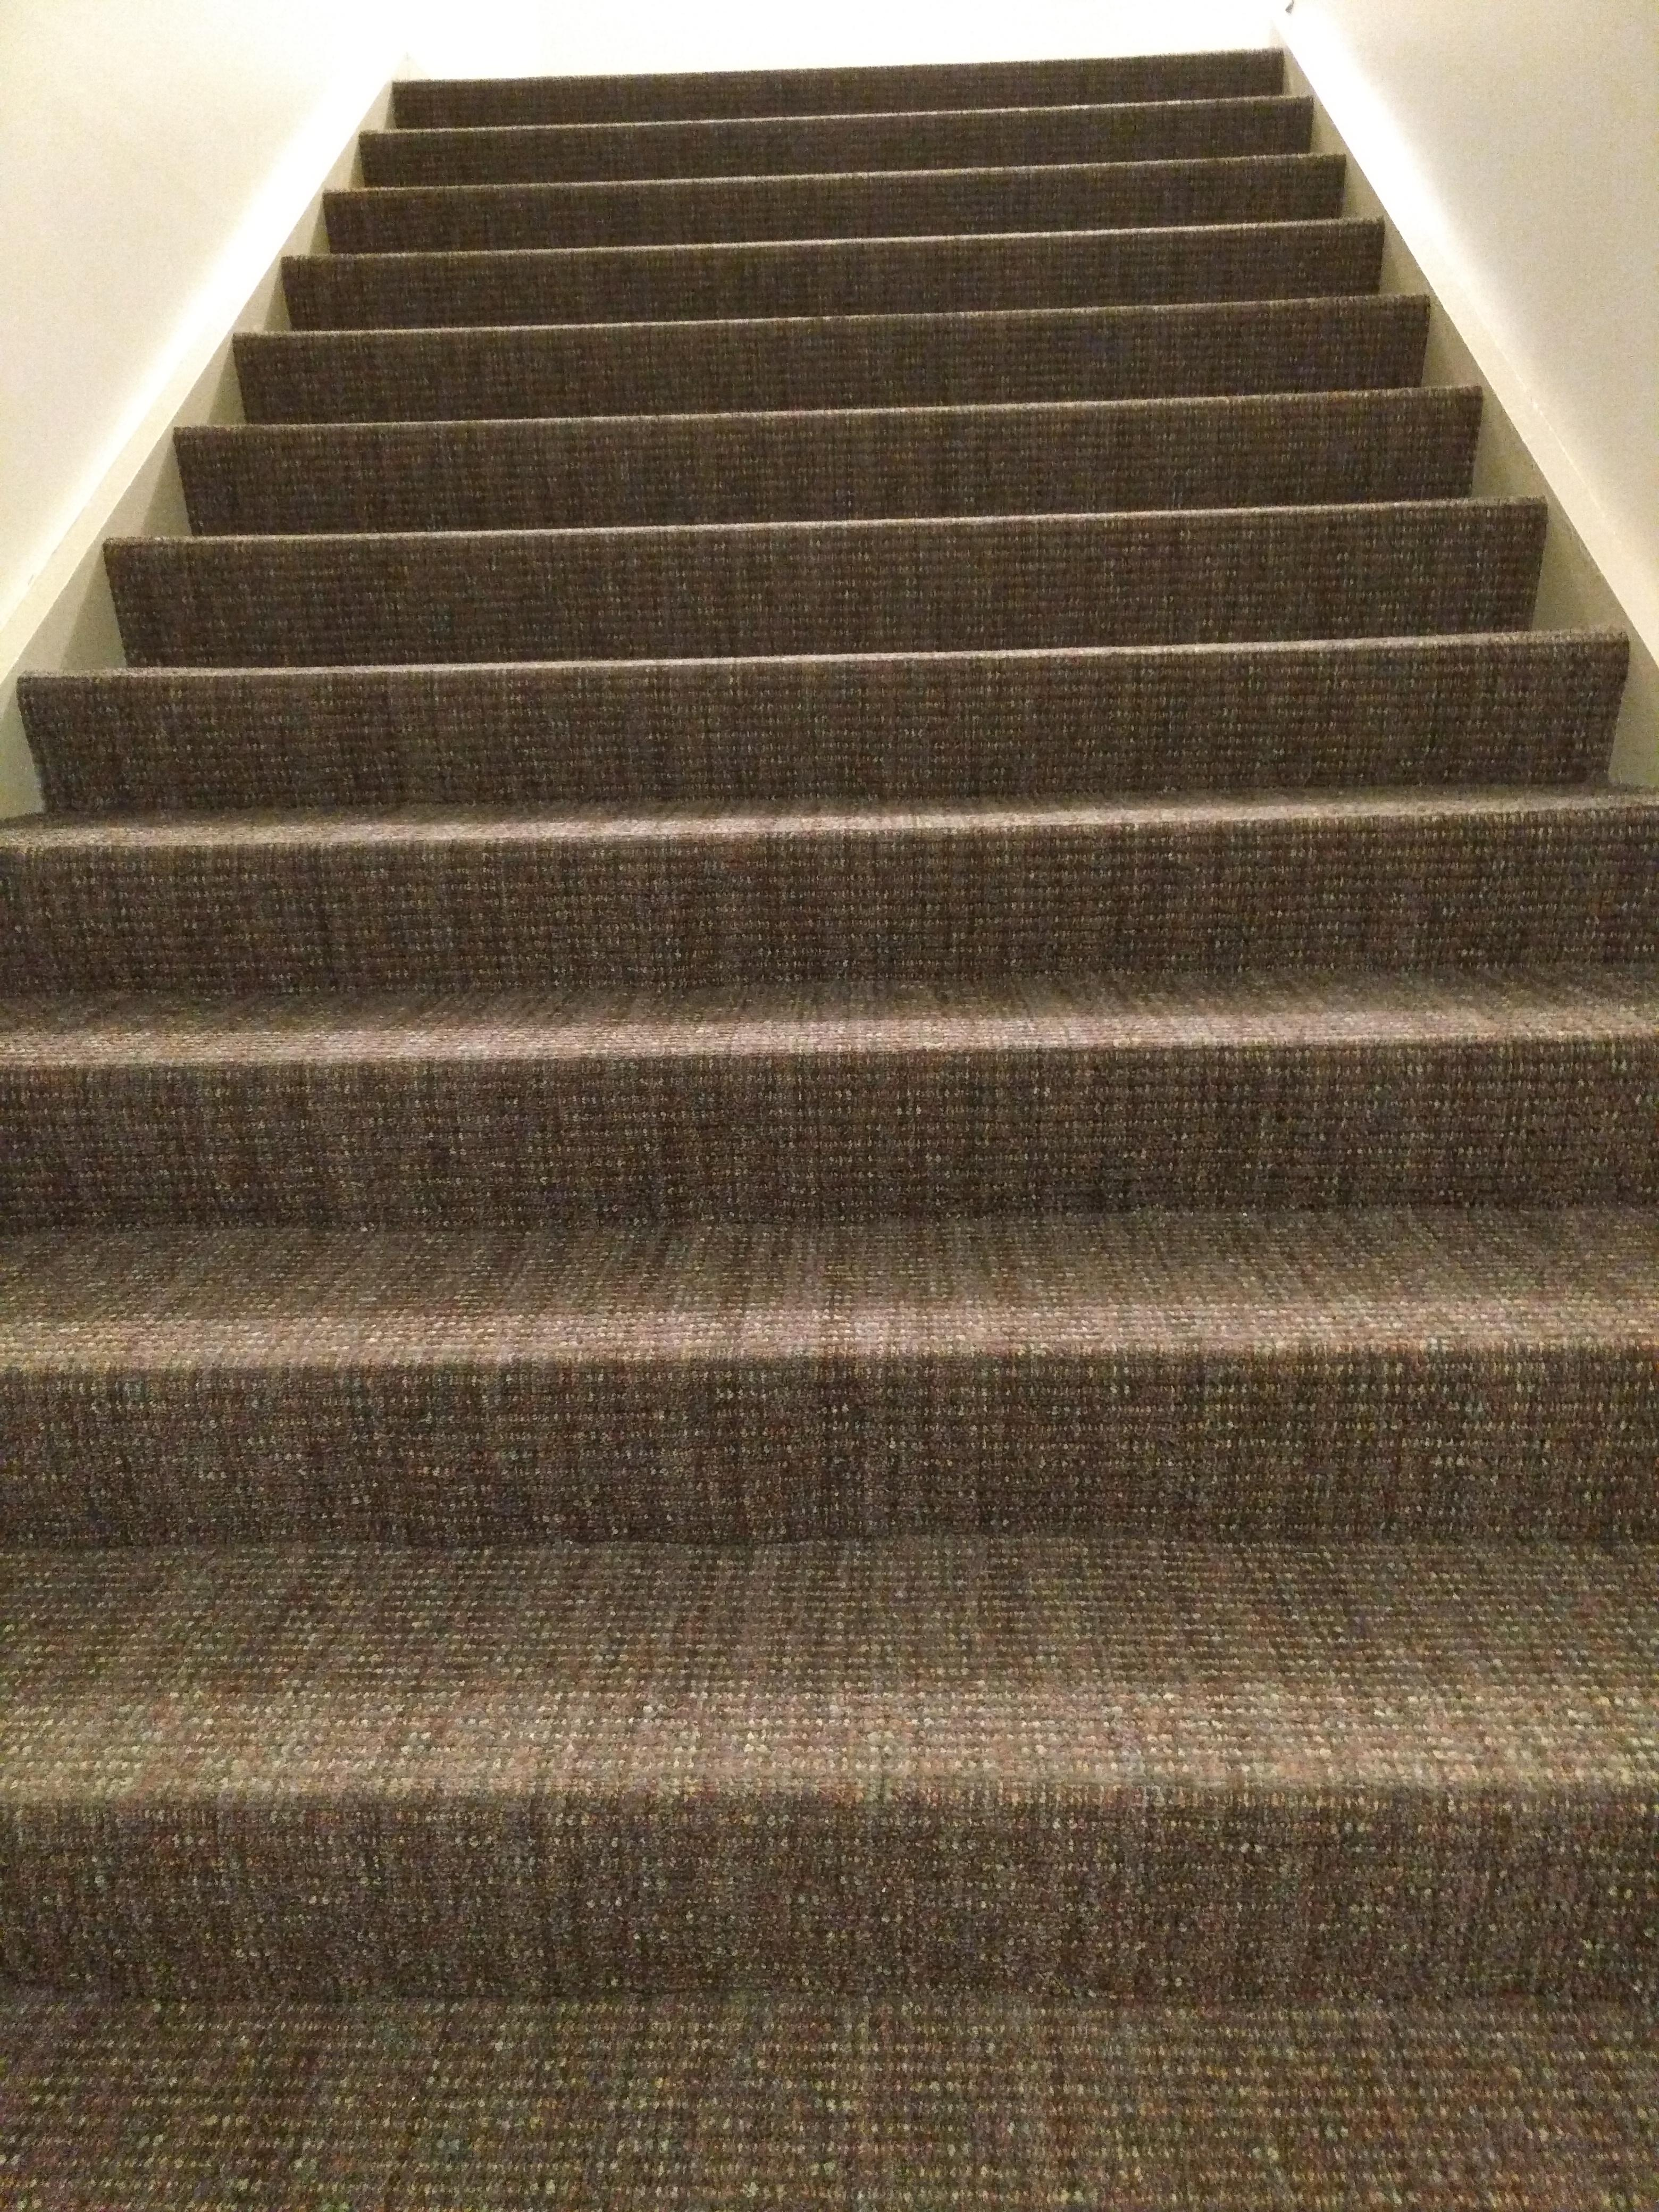stairs_up: (9, 30, 1659, 1944)
